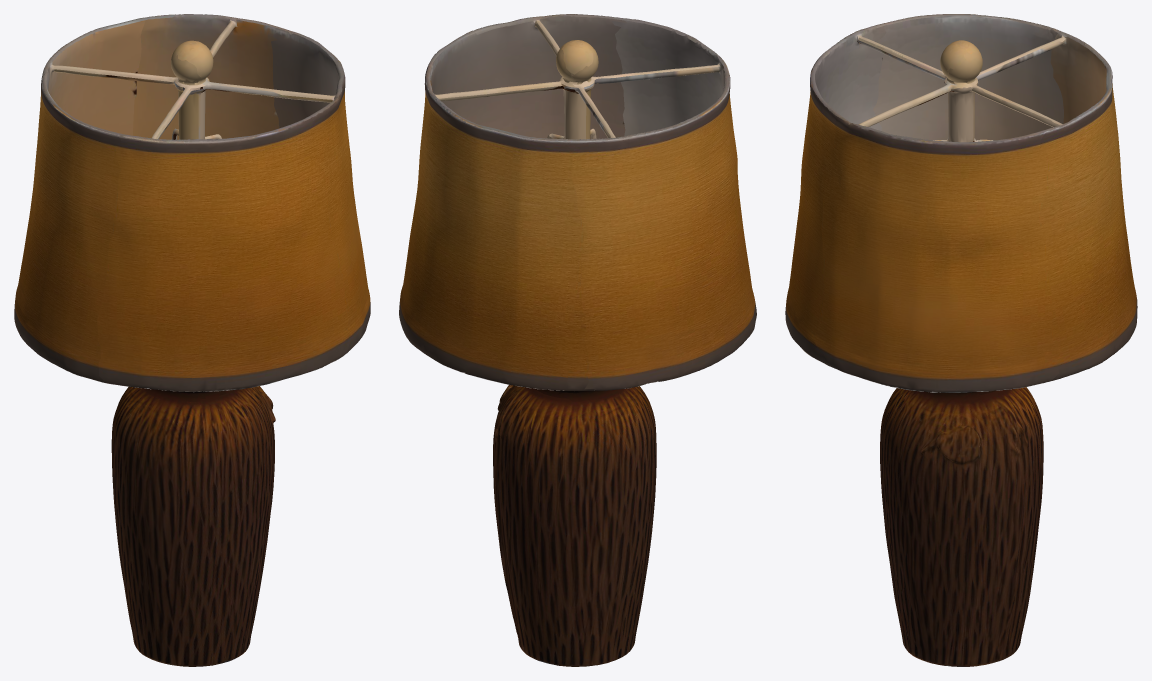
The model's file is lamp.glb.
3 views of the same model, side by side, from view 1: azimuth 30°, elevation 25°; view 2: azimuth 150°, elevation 25°; view 3: azimuth 270°, elevation 25° (orthographic).
Parts seen in each view (by area): view 1: textured_mesh.obj; view 2: textured_mesh.obj; view 3: textured_mesh.obj.
Part boxes in pixels (box(x1,y1,x2,y2)): textured_mesh.obj: box(14, 14, 370, 666); textured_mesh.obj: box(399, 14, 756, 666); textured_mesh.obj: box(785, 14, 1137, 666).
Size of the model in its own units: 0.3296 by 0.6095 by 0.3238.
1 material, 1 textured.
